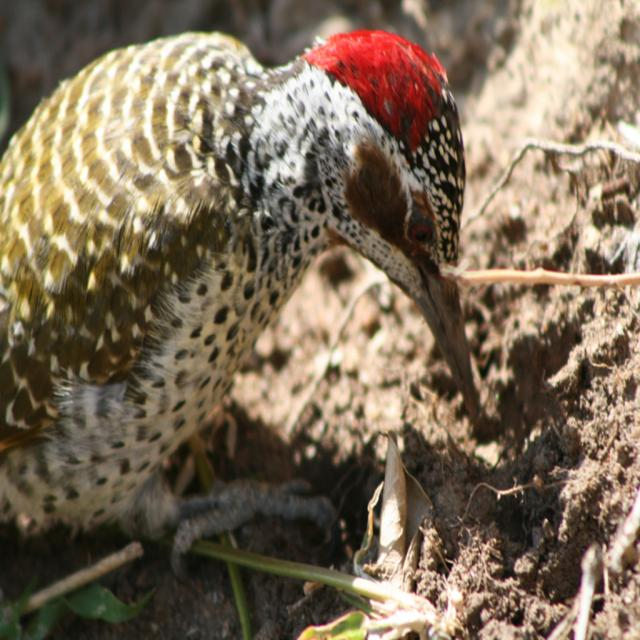Chicken: (11, 30, 518, 627)
